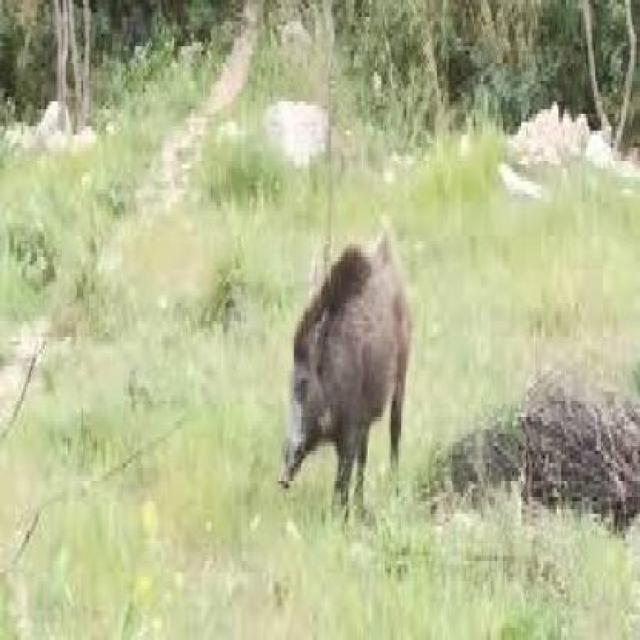wildboar: (277, 236, 412, 530)
